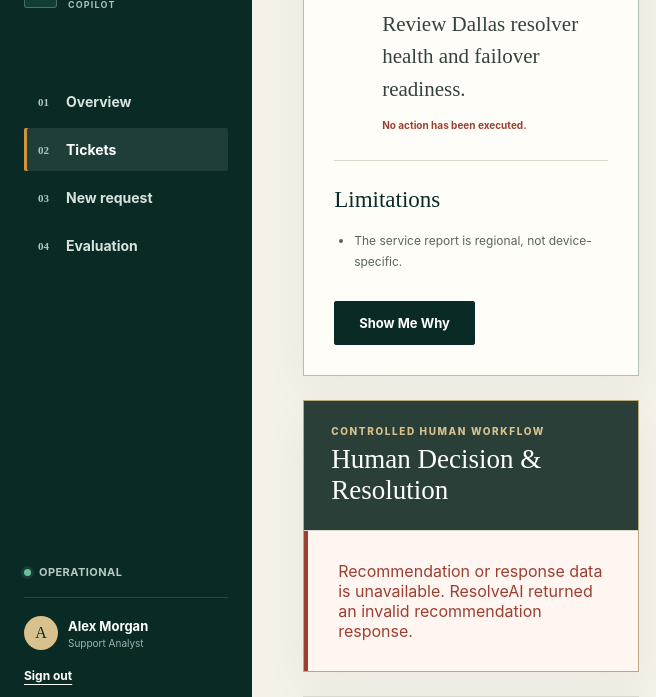
it: Root Cause Assessment › fetches and toggles the safe explanation lazily
(page scrolled)
Step 1. Click the button "Show Me Why" → click(405, 323), box [334,301,475,345]
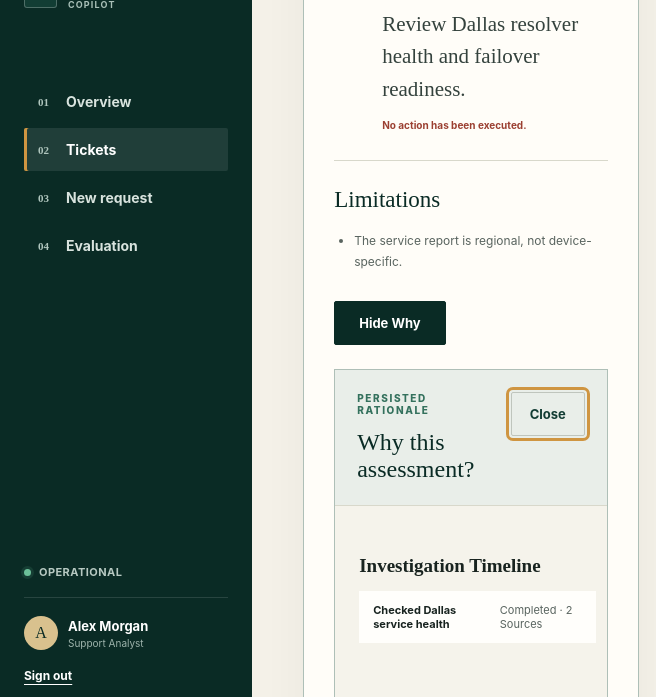
Check: the text "Checked Dallas service health" is shown, box [373,603,456,631]
Step 2. Click the button "Close" → click(548, 414), box [511,392,585,436]
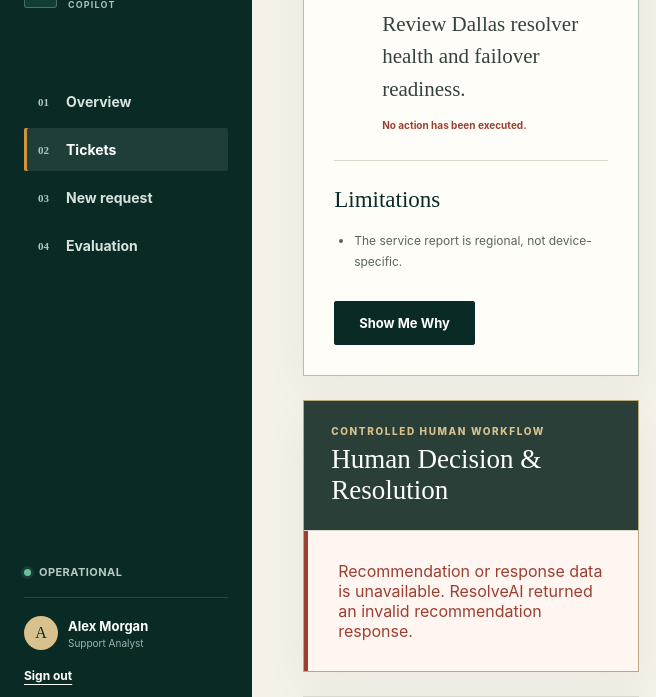
Check: the heading "Why this assessment?" is gone
